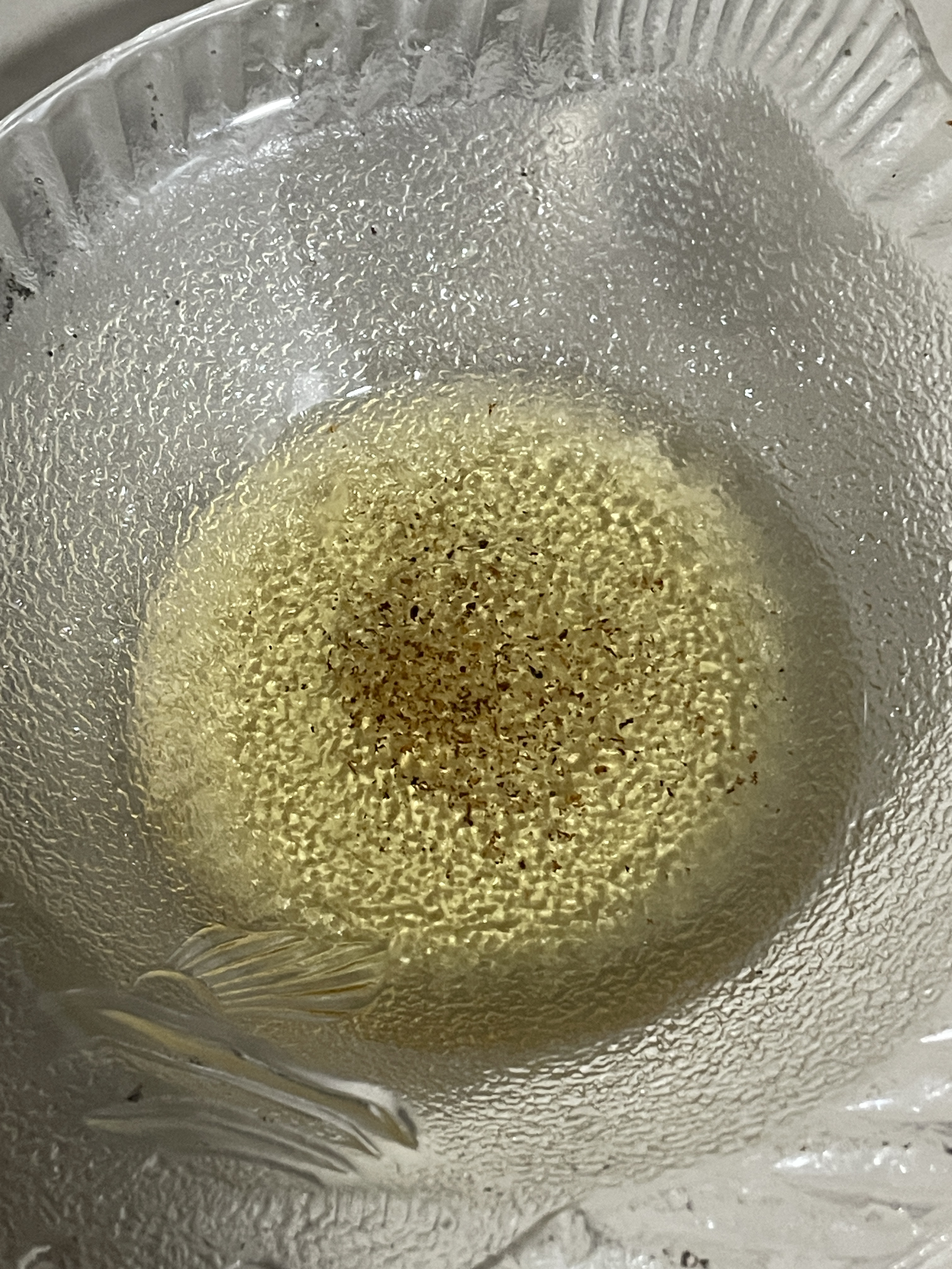reusable: (135, 387, 856, 1045)
